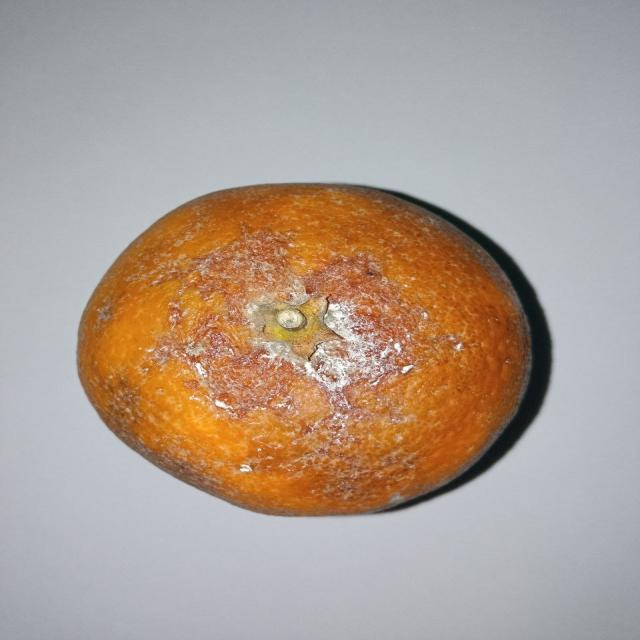rotten_orange: (74, 182, 529, 518)
